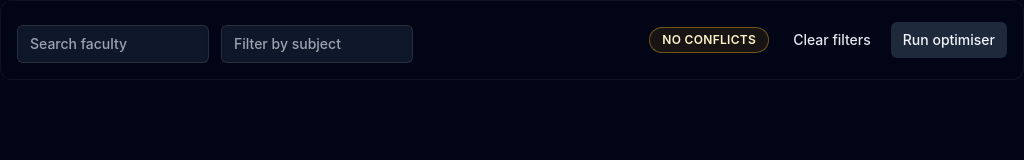
Test: FilterBar optimiser trigger › runs the optimiser and updates the schedule with success feedback
This screenshot has width=1024, height=160.
Check: the text "No conflicts" is shown, box [649, 27, 769, 53]
Click the button "Run optimiser".
click(949, 40)  # box [891, 22, 1007, 58]
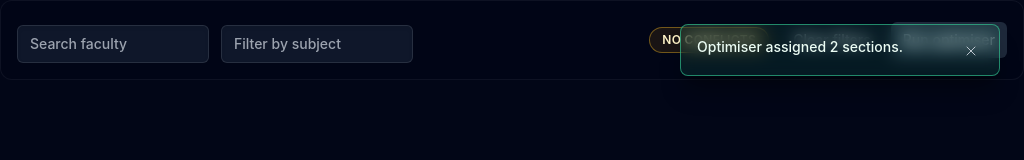
Check: the text "Optimiser assigned 2 sections." is shown, box [697, 37, 903, 57]
